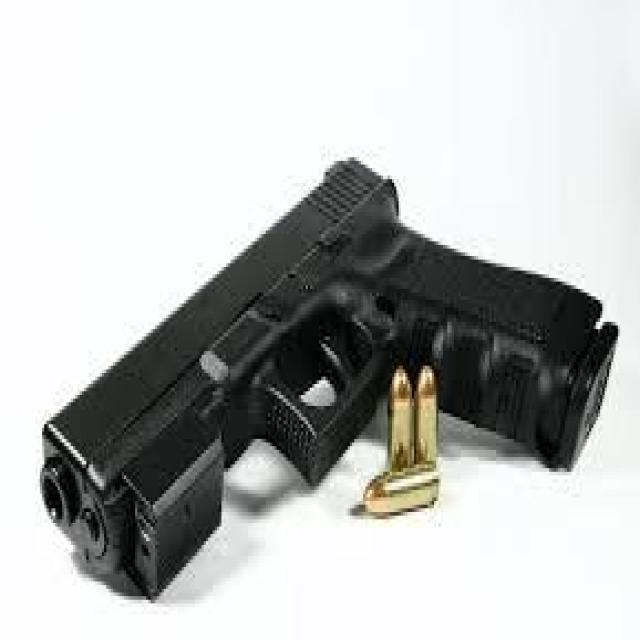gun: (38, 157, 620, 600)
